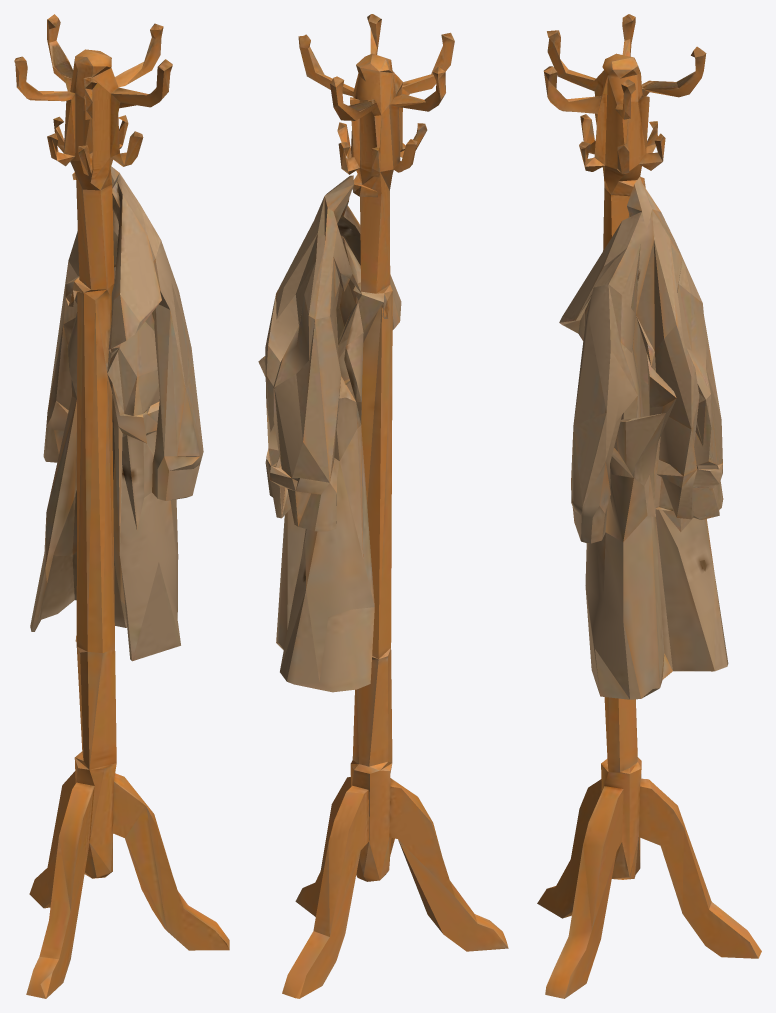
File: coatRack.glb
3 renders of one model, left to right at view 1: azimuth 30°, elevation 25°; view 2: azimuth 150°, elevation 25°; view 3: azimuth 270°, elevation 25°, orthographic.
Bounding box in the file's own units: 0.4591 × 1.9 × 0.4304.
Materials: 1 (1 with a texture image).
